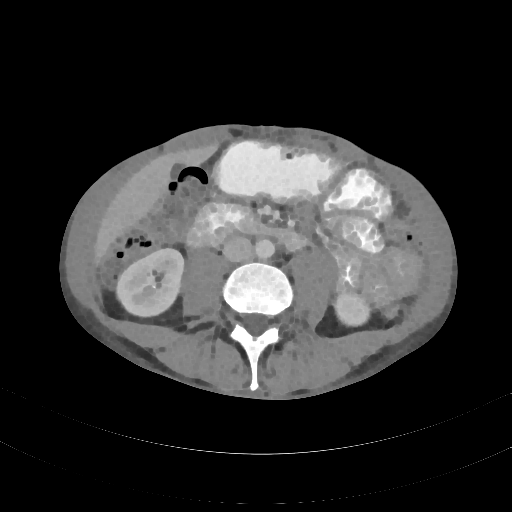Lesion: (148, 281, 157, 292)
